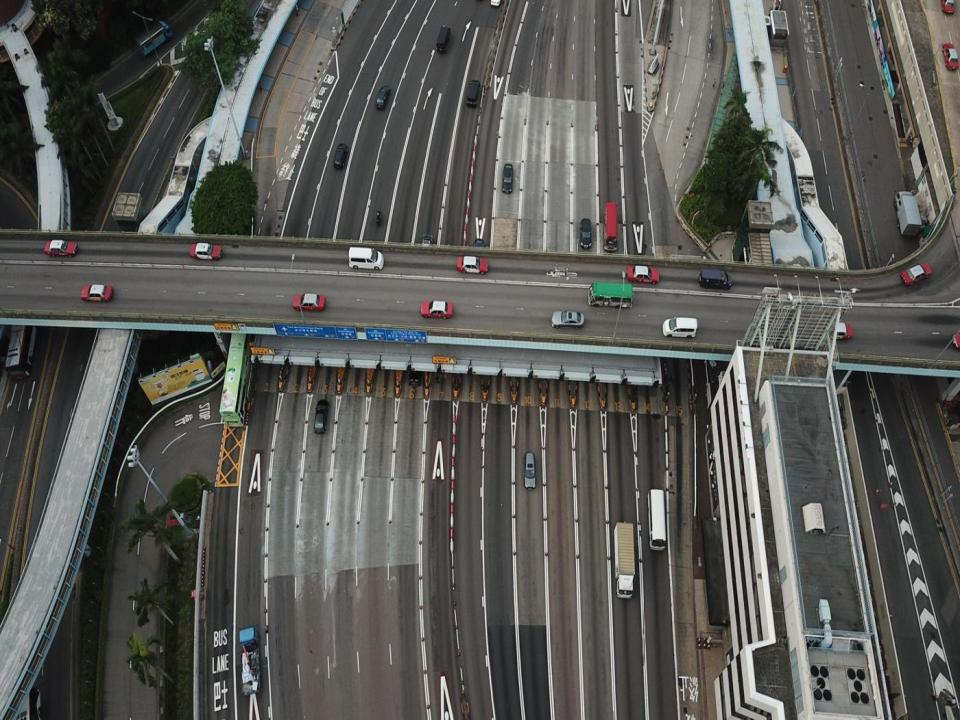bus: (5, 298, 38, 379), (588, 282, 633, 309), (648, 490, 666, 550), (604, 203, 618, 251)
car: (900, 262, 932, 285), (293, 292, 325, 312), (420, 300, 452, 320), (552, 310, 584, 330), (819, 321, 852, 340), (626, 265, 659, 284), (81, 283, 113, 302), (190, 242, 221, 261), (43, 240, 77, 257), (312, 399, 329, 433), (457, 256, 487, 275), (942, 43, 959, 71), (409, 350, 422, 386), (502, 162, 514, 192), (334, 144, 348, 168), (376, 86, 389, 109)
truck: (614, 522, 636, 598), (239, 628, 260, 695), (894, 191, 922, 238), (136, 20, 173, 55)
van: (348, 246, 384, 270), (662, 316, 697, 338), (698, 268, 732, 290), (523, 452, 537, 489), (467, 79, 481, 108), (419, 235, 433, 264), (436, 26, 451, 53), (471, 237, 484, 266), (581, 218, 591, 248)
